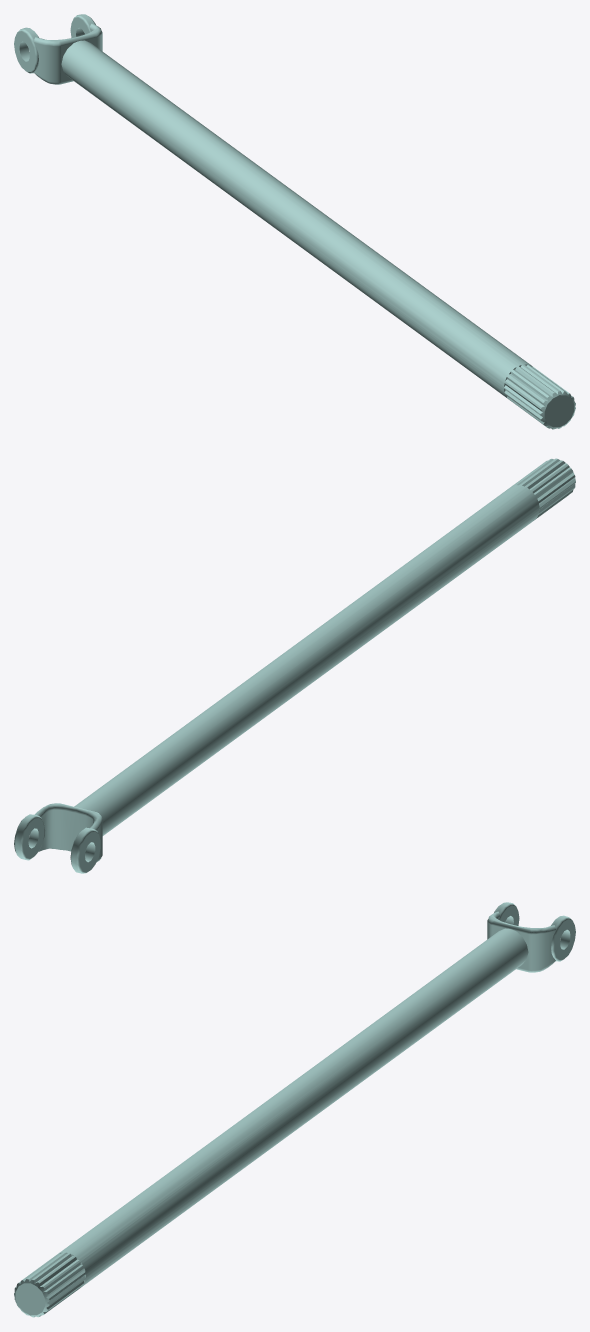
The model's file is Front driveshaft isolated.gltf.
3 renders of one model, top to bottom at view 1: azimuth 30°, elevation 25°; view 2: azimuth 150°, elevation 25°; view 3: azimuth 330°, elevation 25°, orthographic.
Parts seen in each view (by area): view 1: Shaft B; view 2: Shaft B; view 3: Shaft B.
Part boxes in pixels (box(x1,y1,x2,y2)): Shaft B: box(14, 14, 575, 429); Shaft B: box(14, 458, 575, 873); Shaft B: box(14, 902, 575, 1317).
Size of the model in its own units: 11 by 7 by 150.
